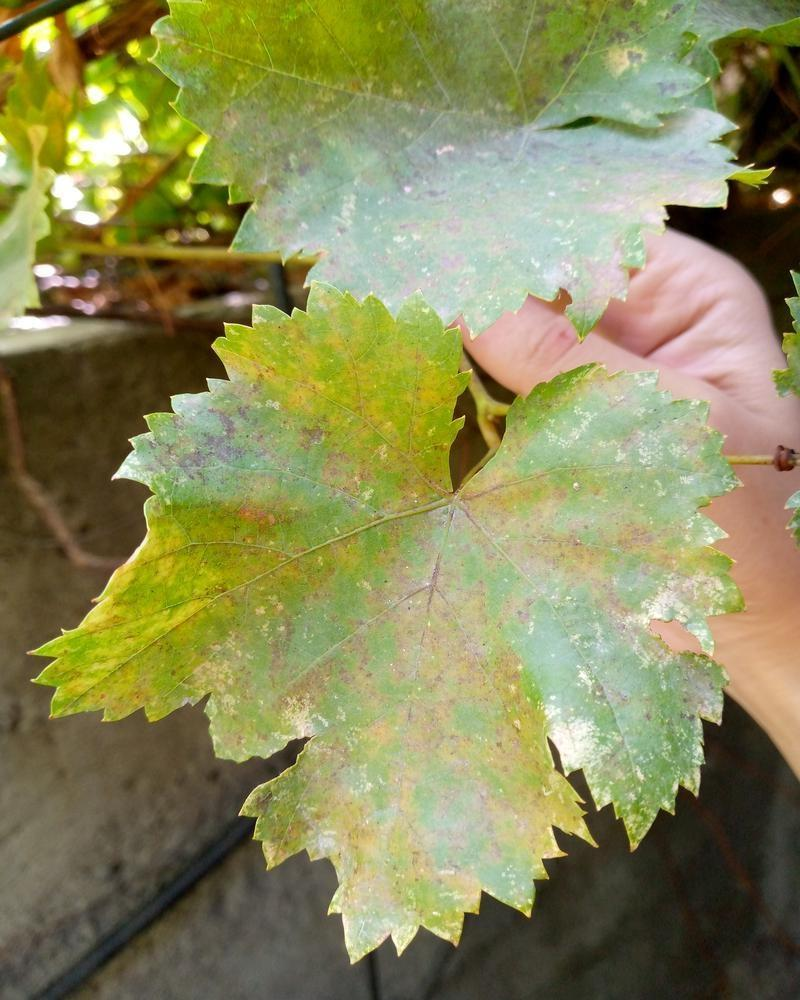Powdery-Mildew: (259, 568, 481, 961), (251, 386, 444, 606), (64, 520, 252, 708), (159, 360, 348, 489), (448, 477, 588, 588), (610, 405, 716, 526), (522, 685, 639, 775), (541, 384, 604, 447), (648, 557, 711, 620), (484, 791, 547, 854)
